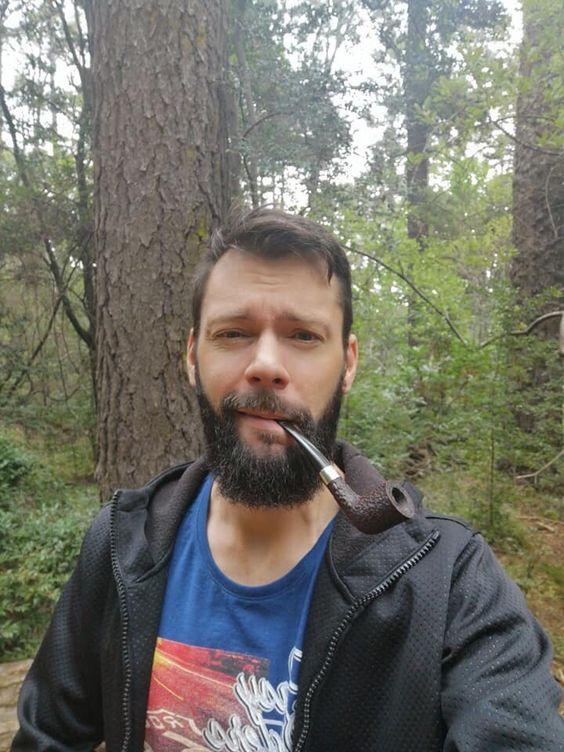trubka: (275, 420, 416, 534)
